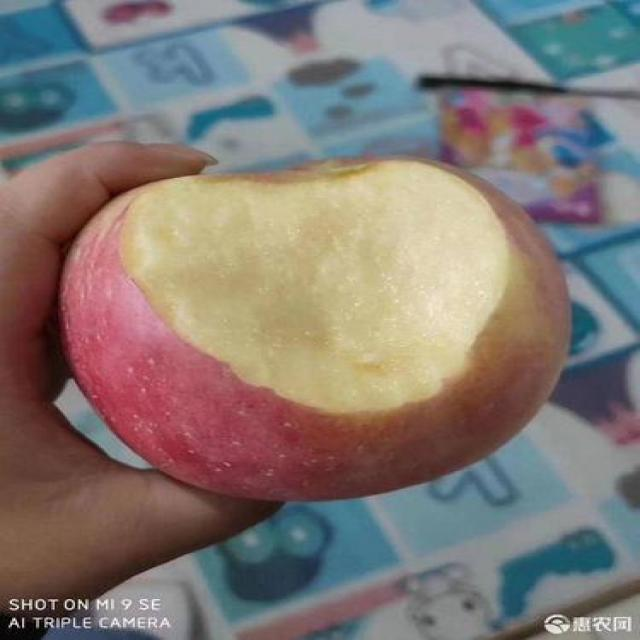Rotten: (51, 148, 580, 506)
